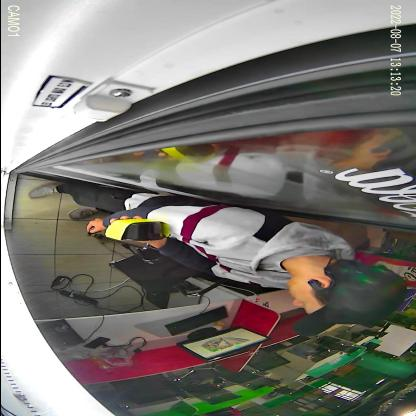yellow: (104, 219, 168, 241)
